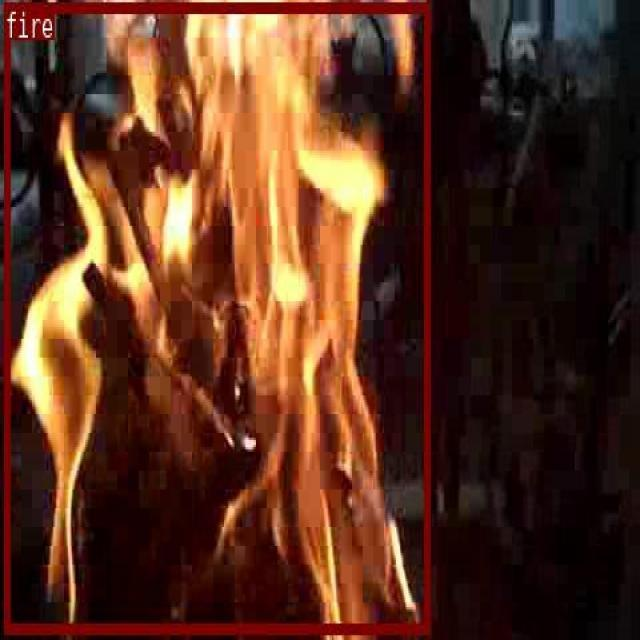fire: (3, 2, 429, 631)
